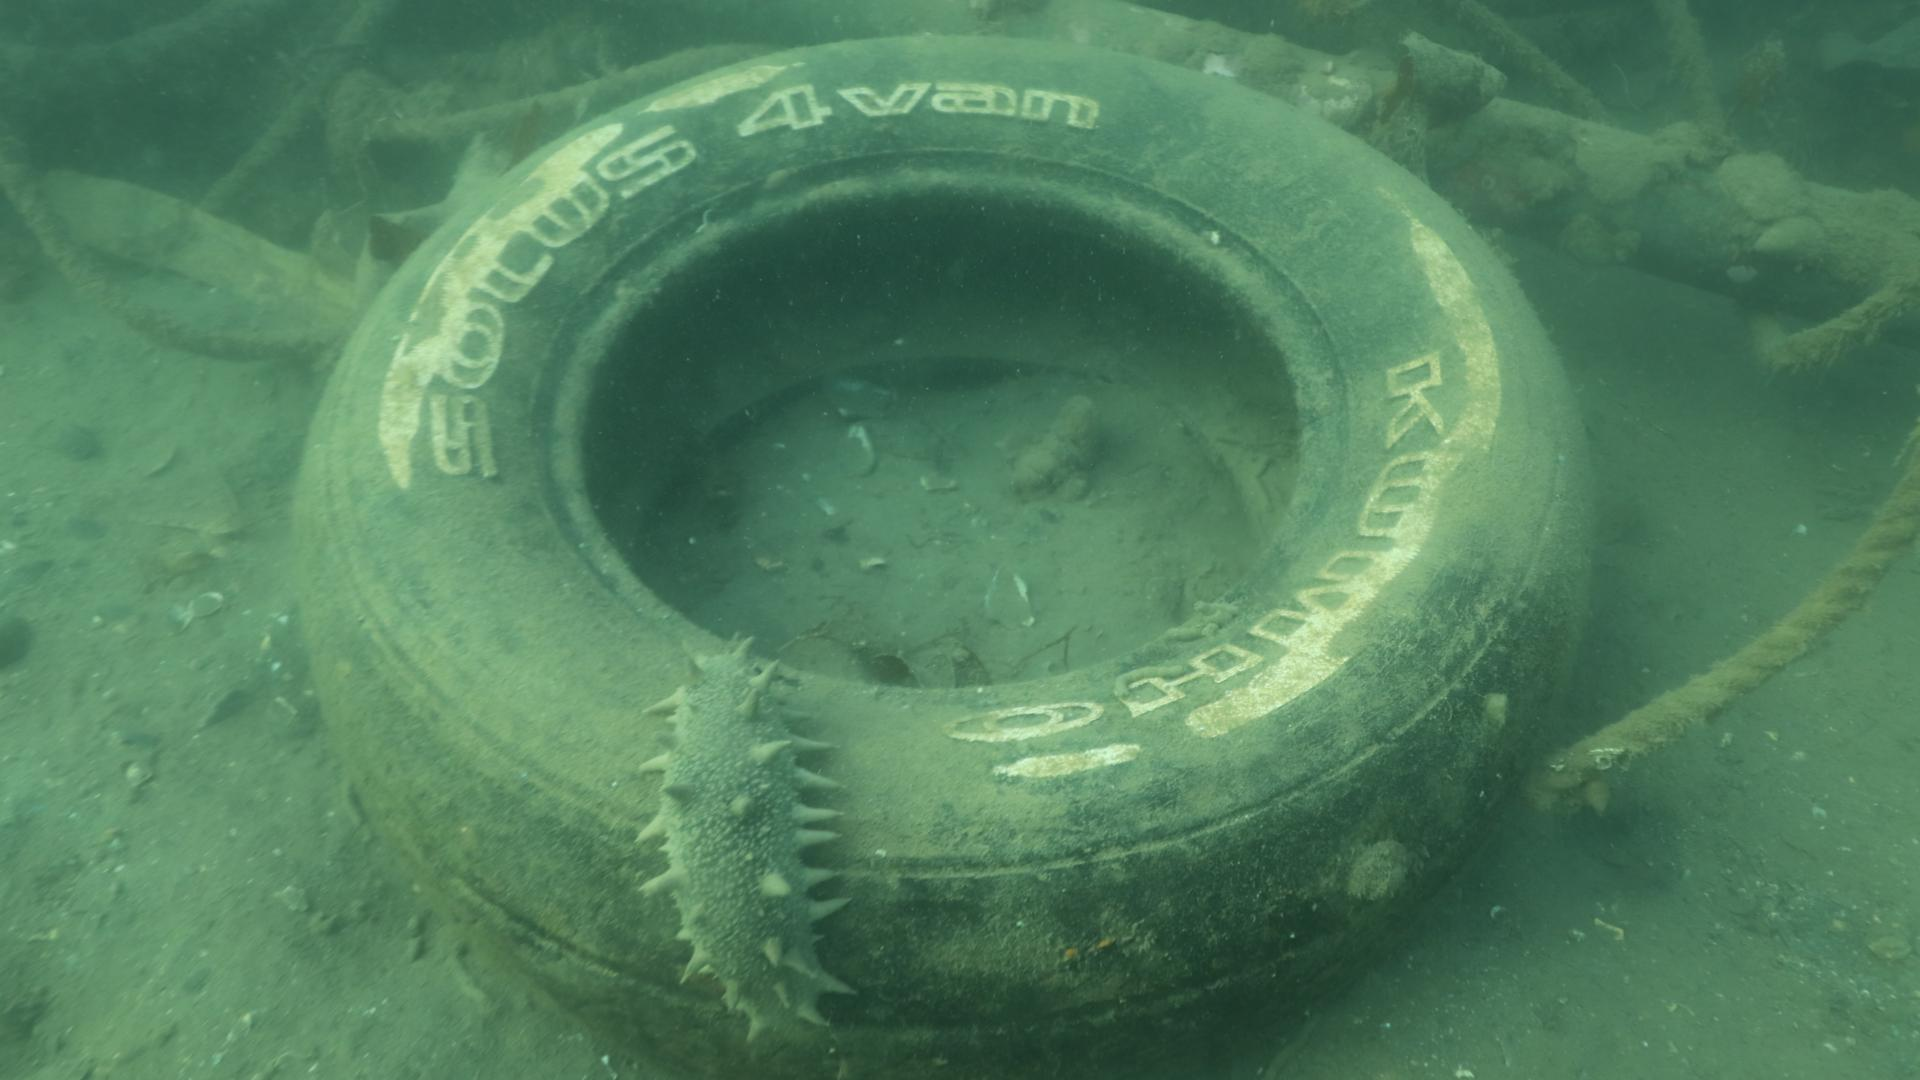bundle of ropes: (0, 0, 781, 357)
rope: (1524, 440, 1920, 816), (1652, 0, 1920, 372)
tire: (290, 33, 1600, 1080)
